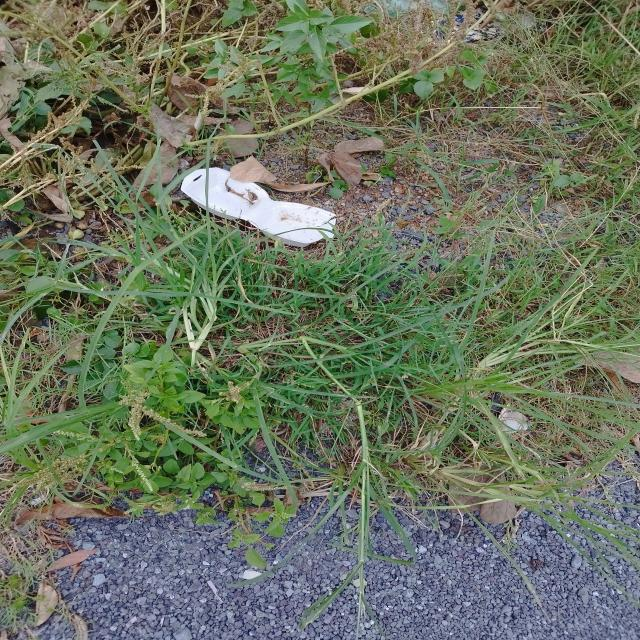foam box: (180, 166, 336, 248)
